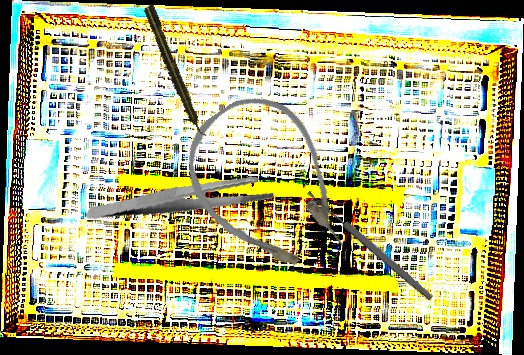Cannula: (163, 76, 373, 299)
Dressing Forceps: (85, 156, 277, 242)
Handpiece: (141, 2, 208, 141)
Surgical Spoon: (305, 188, 435, 302)
